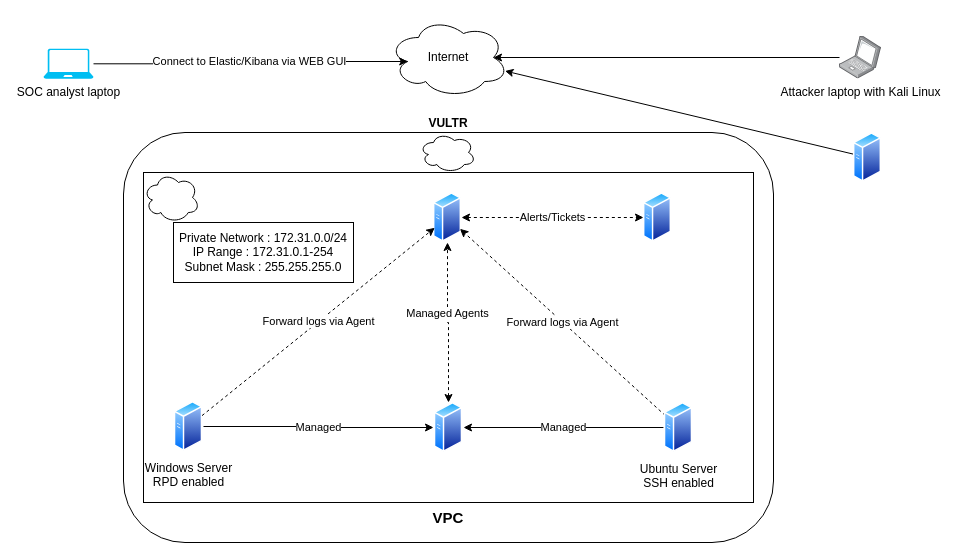
The diagram is 958 pixels wide and 560 high, and some of its shapes have lost their labels. The shapes that lost their labels are listed below. From the top down, each one's centre as x and y in pixels, then its label:
At pixel 867 157: "C2 Mythic Server".
At pixel 447 217: "Elastic & Kibana".
At pixel 657 217: "osTicketing Server".
At pixel 448 427: "Fleet Server".
